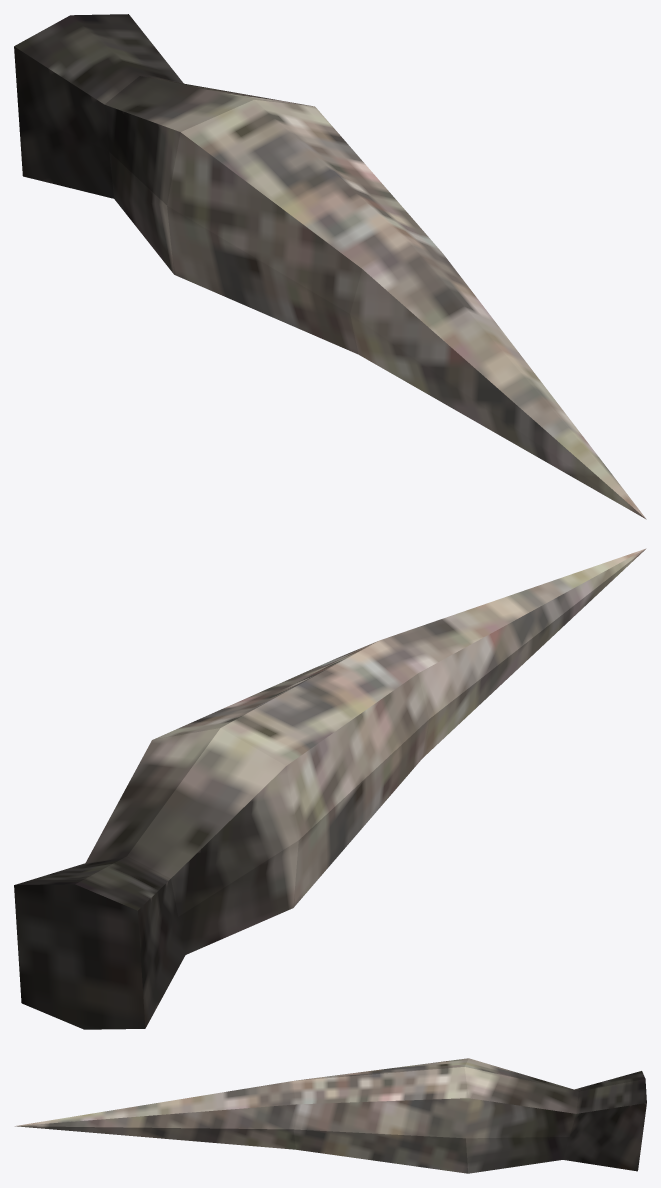
File: geonachspear.obj
3 views of the same model, one above another, from view 1: azimuth 30°, elevation 25°; view 2: azimuth 150°, elevation 25°; view 3: azimuth 270°, elevation 25° (orthographic). The views are drawn at different scales.
Visible parts, largest first — view 1: Base; view 2: Base; view 3: Base.
Part boxes in pixels (left/top/right/bottom): Base: left=14, top=14, right=646, bottom=519; Base: left=14, top=548, right=646, bottom=1029; Base: left=14, top=1058, right=646, bottom=1173.
Size of the model in its own units: 0.1159 by 0.1315 by 0.7445.
